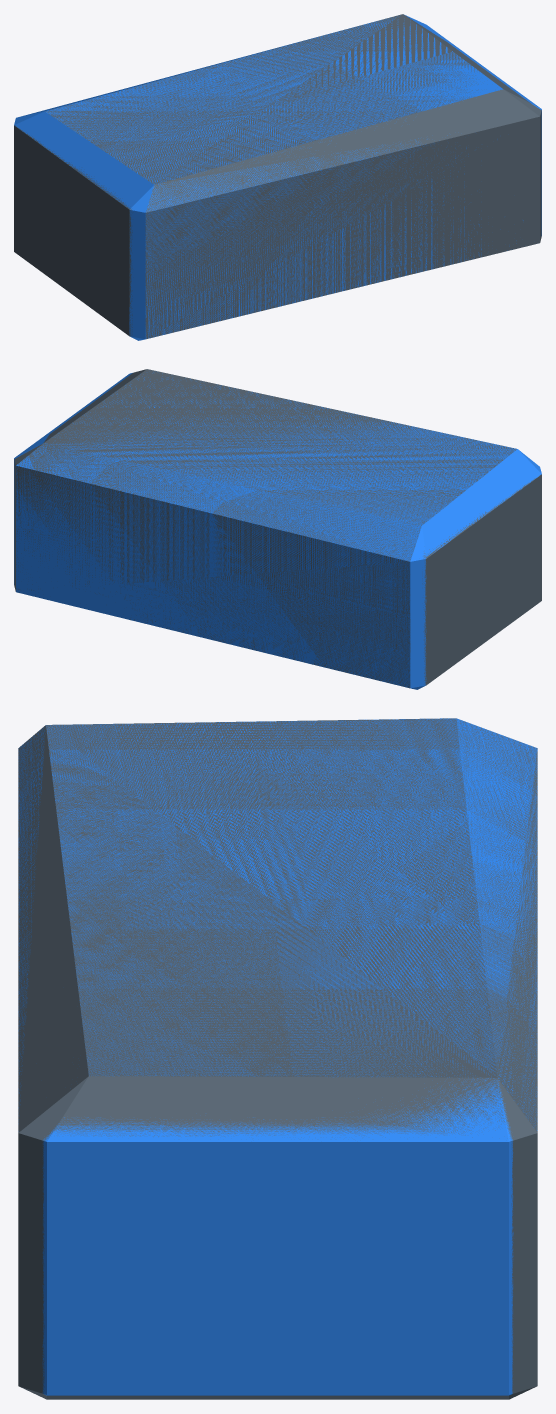
File: Bricks.fbx
The picture shows the model from 3 angles, top to bottom: view 1: azimuth 30°, elevation 25°; view 2: azimuth 150°, elevation 25°; view 3: azimuth 270°, elevation 25°; orthographic projection. The views are drawn at different scales.
Parts seen in each view (by area): view 1: Brick_Rock, Brick_metal; view 2: Brick_Rock, Brick_metal; view 3: Brick_metal, Brick_Rock.
Boxes of the visible parts, x1=… form: Brick_Rock: x1=14, y1=14, x2=541, y2=339; Brick_metal: x1=14, y1=15, x2=541, y2=340; Brick_Rock: x1=14, y1=369, x2=541, y2=688; Brick_metal: x1=14, y1=372, x2=541, y2=689; Brick_metal: x1=18, y1=718, x2=537, y2=1395; Brick_Rock: x1=18, y1=718, x2=537, y2=1399.
Bounding box in the file's own units: 2.32 × 0.8185 × 1.26.
